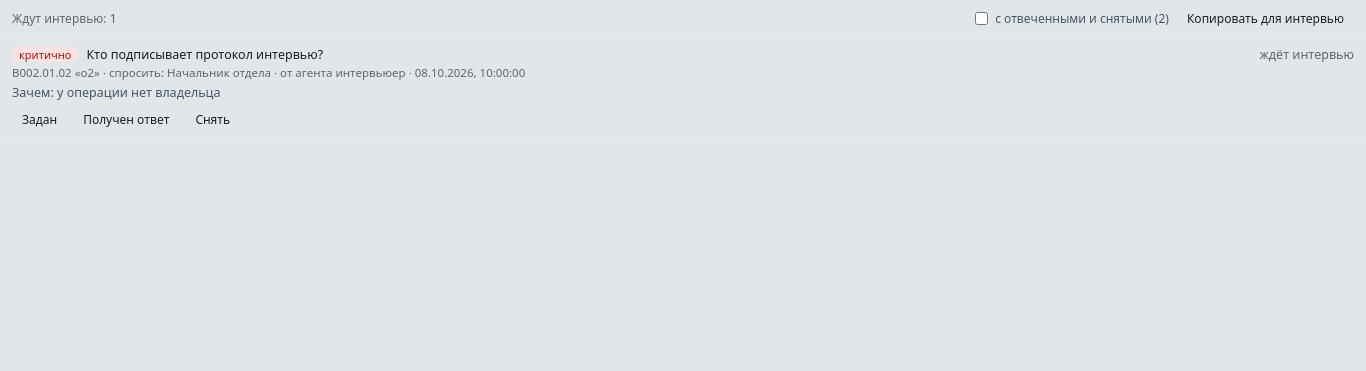
Test case: вопросы к интервью: вкладка › карточка: важность, функция, адресат, зачем; закрытые скрыты, пока не включён флажок
The image size is (1366, 371).
Check: the text "Кто подписывает протокол интервью?" is shown, box [86,46,323,63]
Check: the text "критично" is shown, box [12,47,78,62]
What coordinates should you click on to do the following:
click the checkbox labelled "с отвеченными и снятыми (2)"
I would click on:
 (982, 18)
Its box is [975,12,988,25].
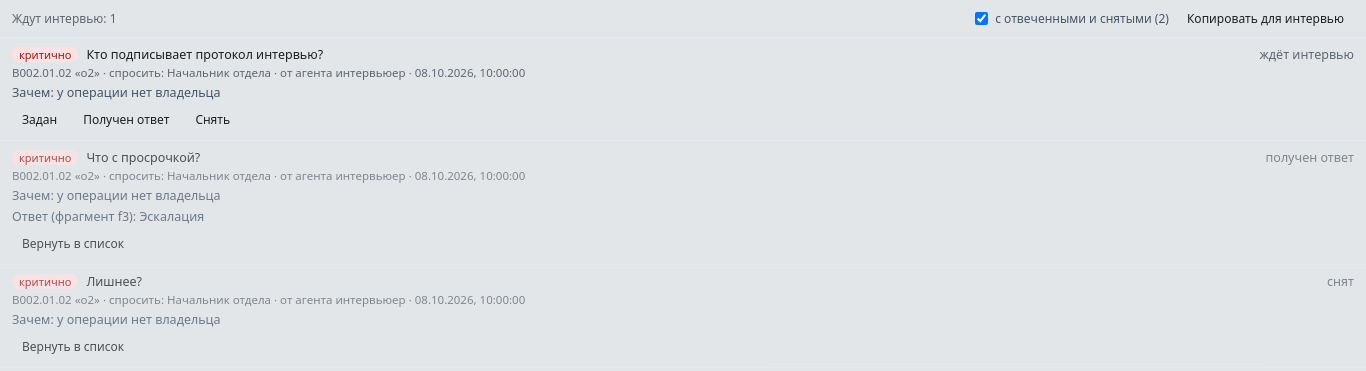
Check: the text "Что с просрочкой?" is shown, box [86,149,200,166]
Check: the text "Ответ (фрагмент f3): Эскалация" is shown, box [12,208,204,225]
Check: the text "Лишнее?" is shown, box [86,273,142,290]
